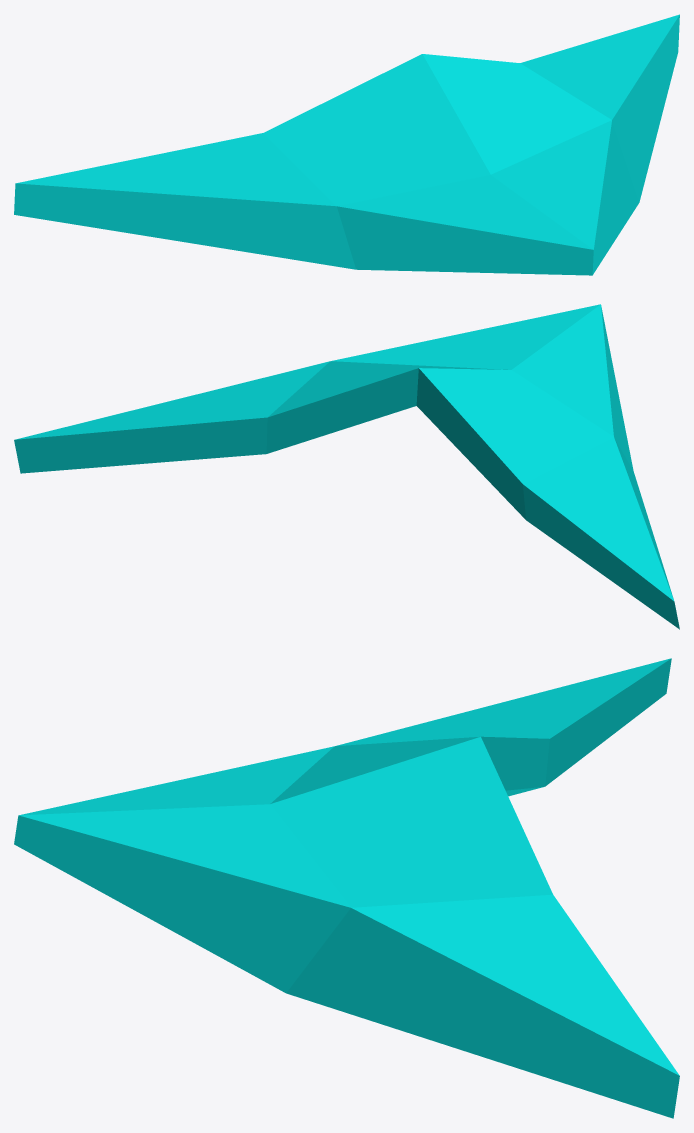
Rendered from SM_Prop_Canopy_05_Collision.fbx.
The picture shows the model from 3 angles, top to bottom: view 1: azimuth 30°, elevation 25°; view 2: azimuth 150°, elevation 25°; view 3: azimuth 270°, elevation 25°; orthographic projection. The views are drawn at different scales.
Visible parts, largest first — view 1: SM_Prop_Canopy_05_Collision; view 2: SM_Prop_Canopy_05_Collision; view 3: SM_Prop_Canopy_05_Collision.
Part boxes in pixels (bbox=[...]): SM_Prop_Canopy_05_Collision: bbox=[14, 14, 679, 275]; SM_Prop_Canopy_05_Collision: bbox=[14, 304, 679, 629]; SM_Prop_Canopy_05_Collision: bbox=[14, 658, 679, 1118].
Size of the model in its own units: 877 by 167 by 581.
